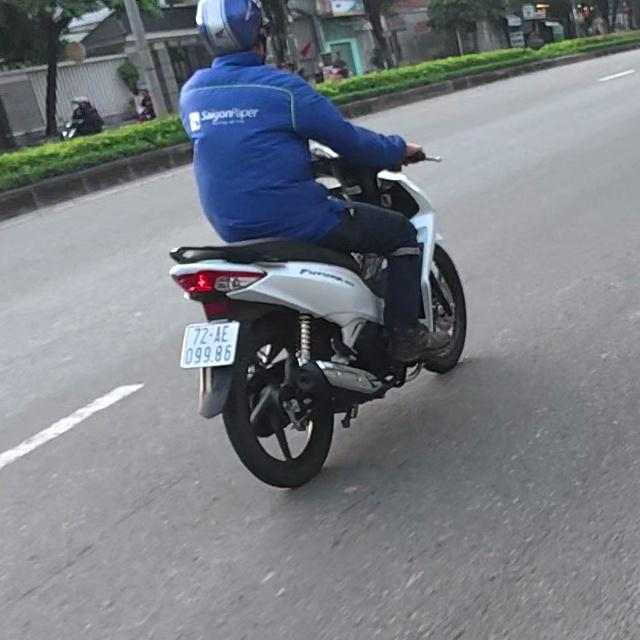license-plate: (180, 320, 242, 368)
